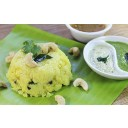venpongal: (11, 44, 70, 95)
